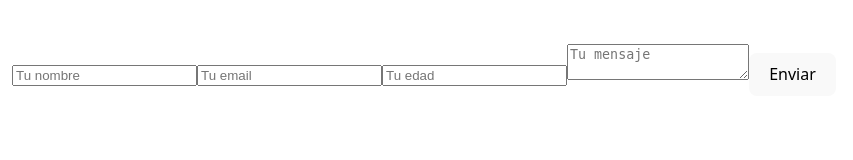
Test case: muestra mensaje después del submit con nombre
Type "Daniel" into the field with placeholder "Tu nombre".
click(104, 76); type("Daniel")  # box x1=12 y1=65 x2=197 y2=86
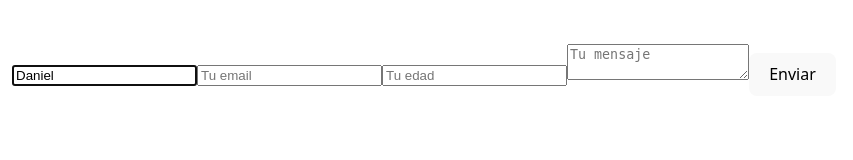
Type "dani@example.com" into the field with placeholder "Tu email".
click(290, 76); type("dani@example.com")  # box x1=197 y1=65 x2=382 y2=86
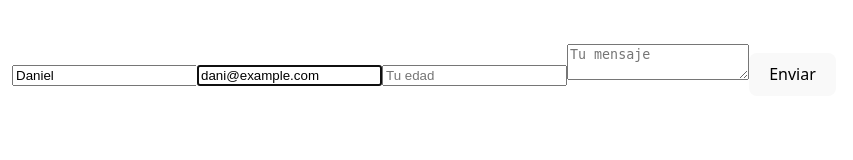
Type "25" into the number field with placeholder "Tu edad".
click(474, 76); type("25")  # box x1=382 y1=65 x2=567 y2=86
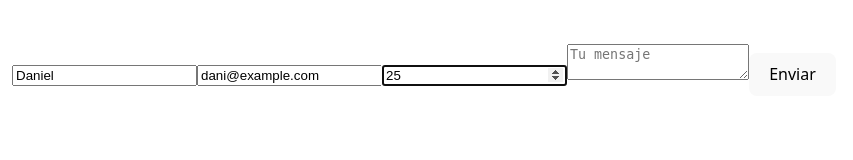
Type "Soy un capo" into the text box with placeholder "Tu mensaje".
click(658, 62); type("Soy un capo")  # box x1=567 y1=44 x2=749 y2=80
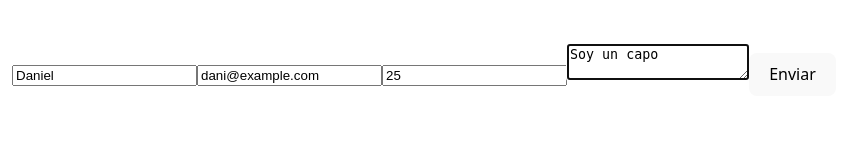
Click the button "Enviar".
click(792, 74)  # box x1=749 y1=53 x2=836 y2=96
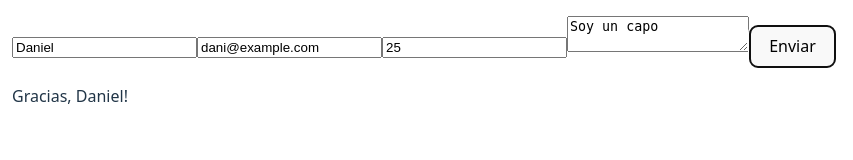
Check: the text "Gracias, Daniel!" is shown, box x1=12 y1=85 x2=128 y2=107
